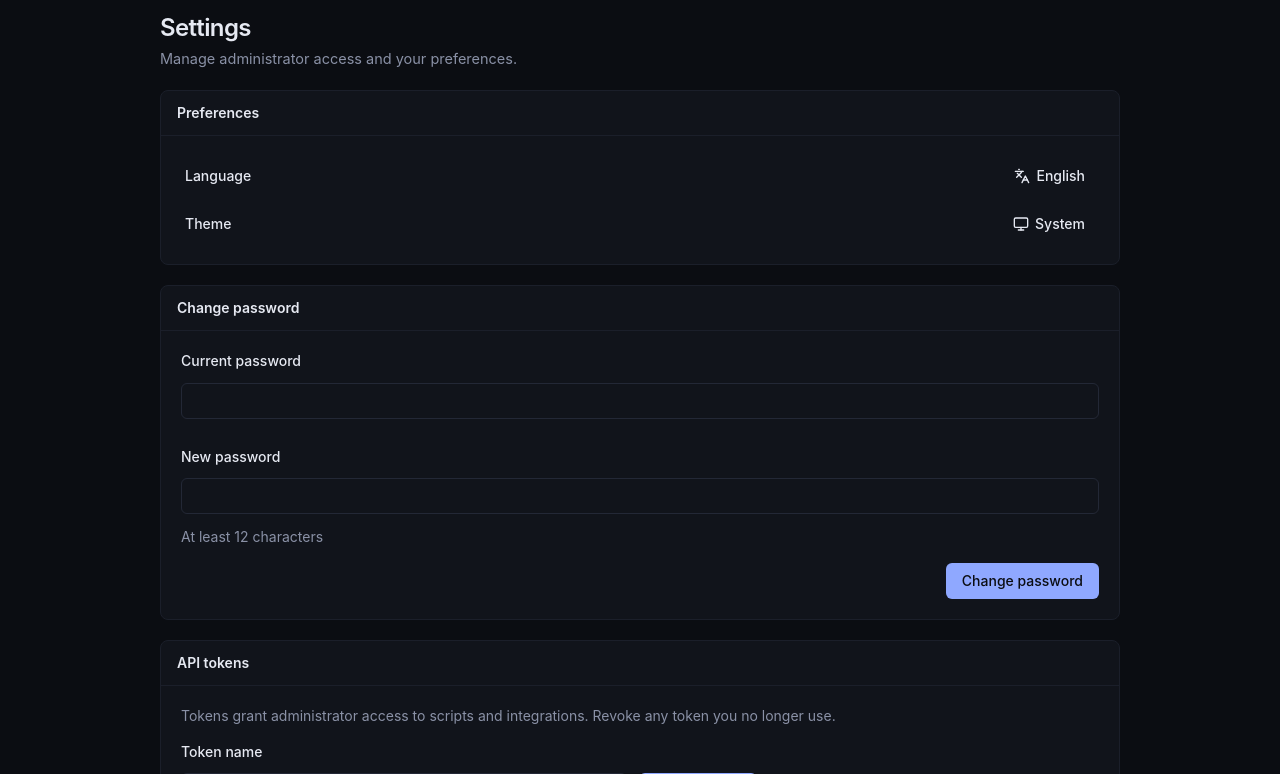
a wrong current password stays in the settings form
In the password field labelled "Current password": (640, 401) top-left (181, 383), bottom-right (1099, 419), type "wrong"
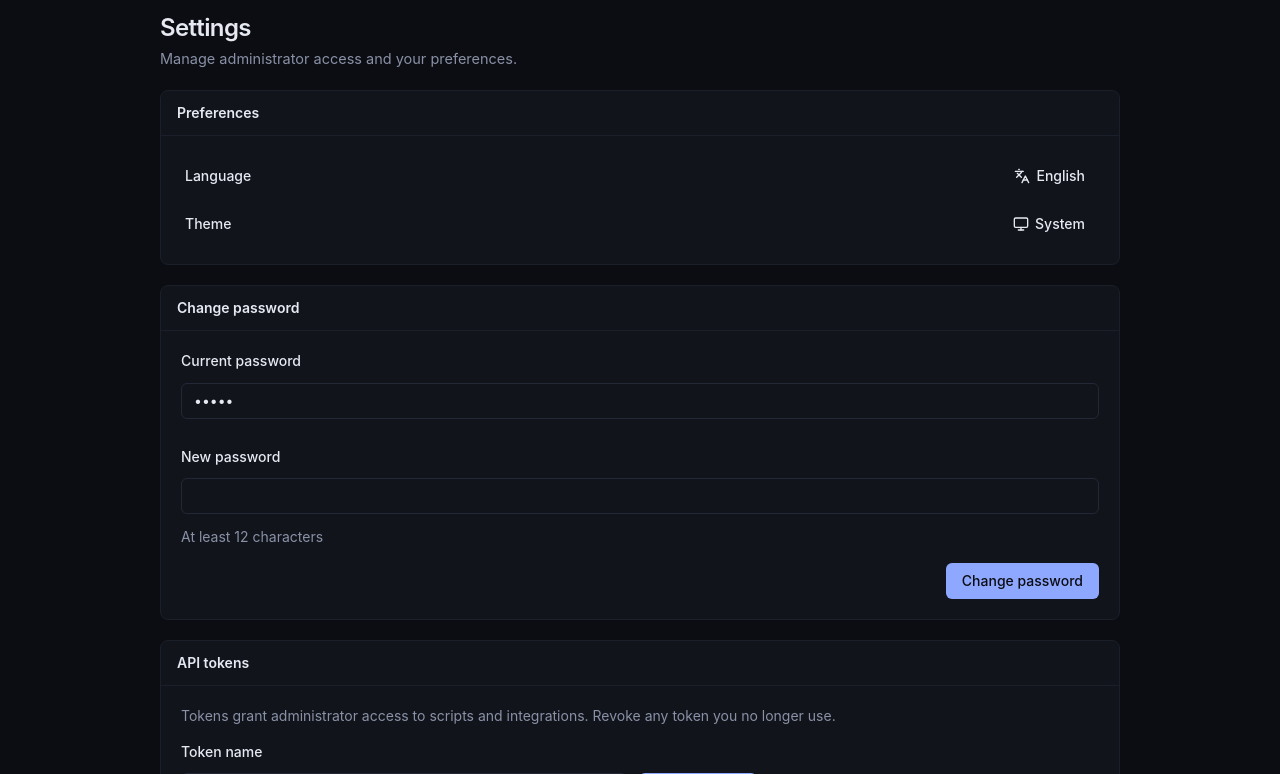
In the password field labelled "New password": (640, 496) top-left (181, 478), bottom-right (1099, 514), type "new-long-password"
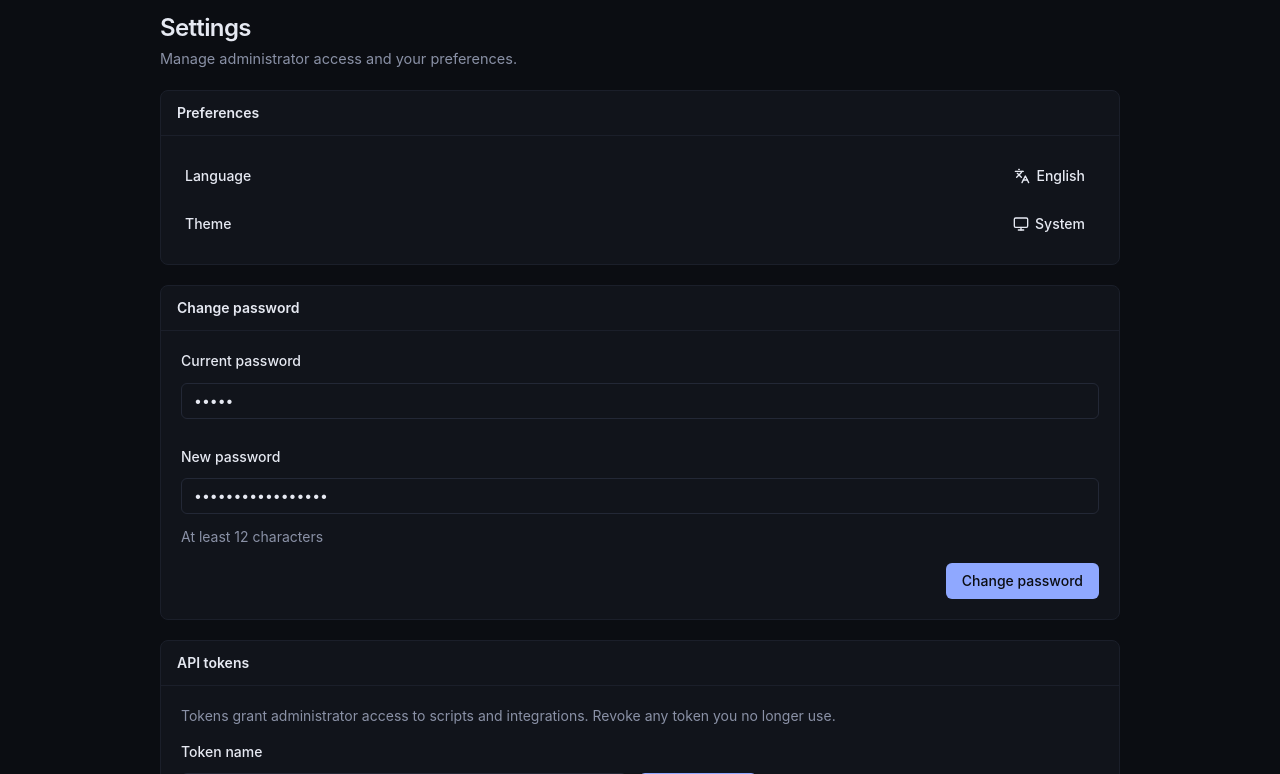
Click the button "Change password": (1022, 581) top-left (946, 563), bottom-right (1099, 599)
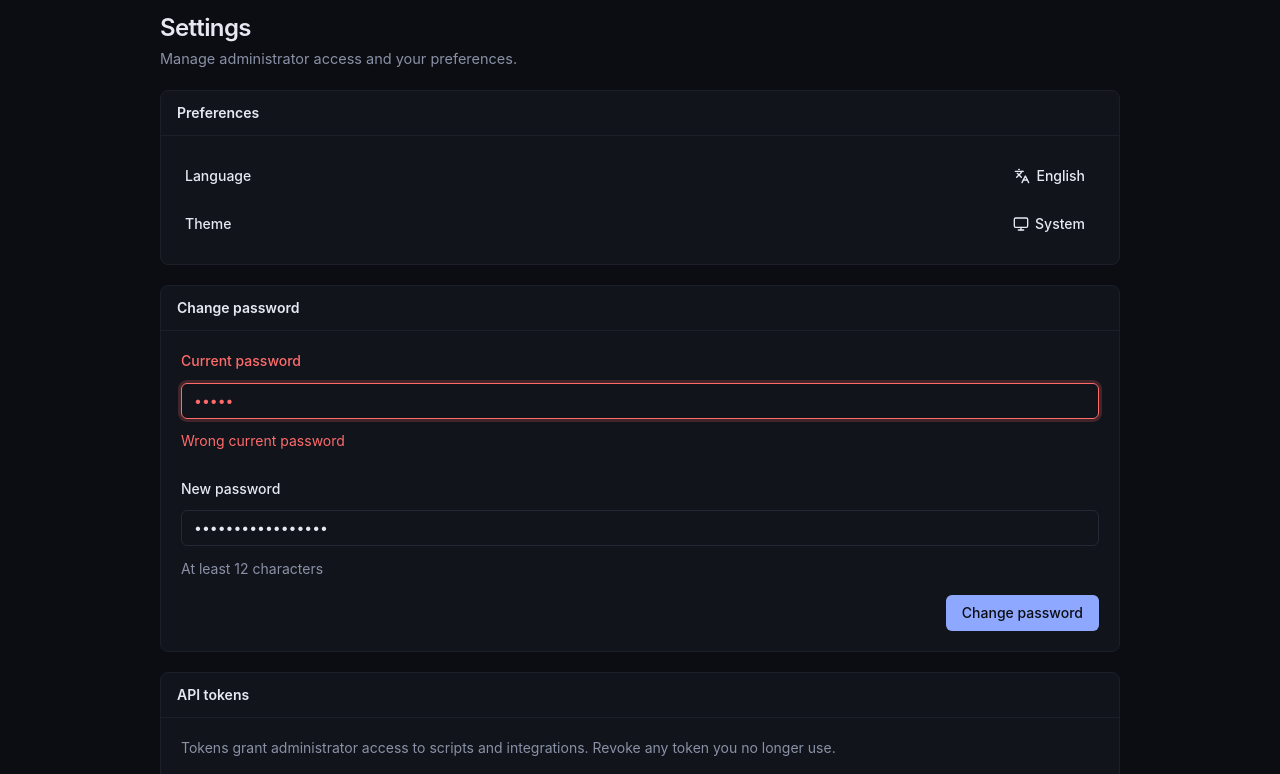
Expected: the heading "API tokens" is shown, top-left (177, 685), bottom-right (249, 705)
Expected: the text "Wrong current password" is shown, top-left (181, 432), bottom-right (345, 449)
